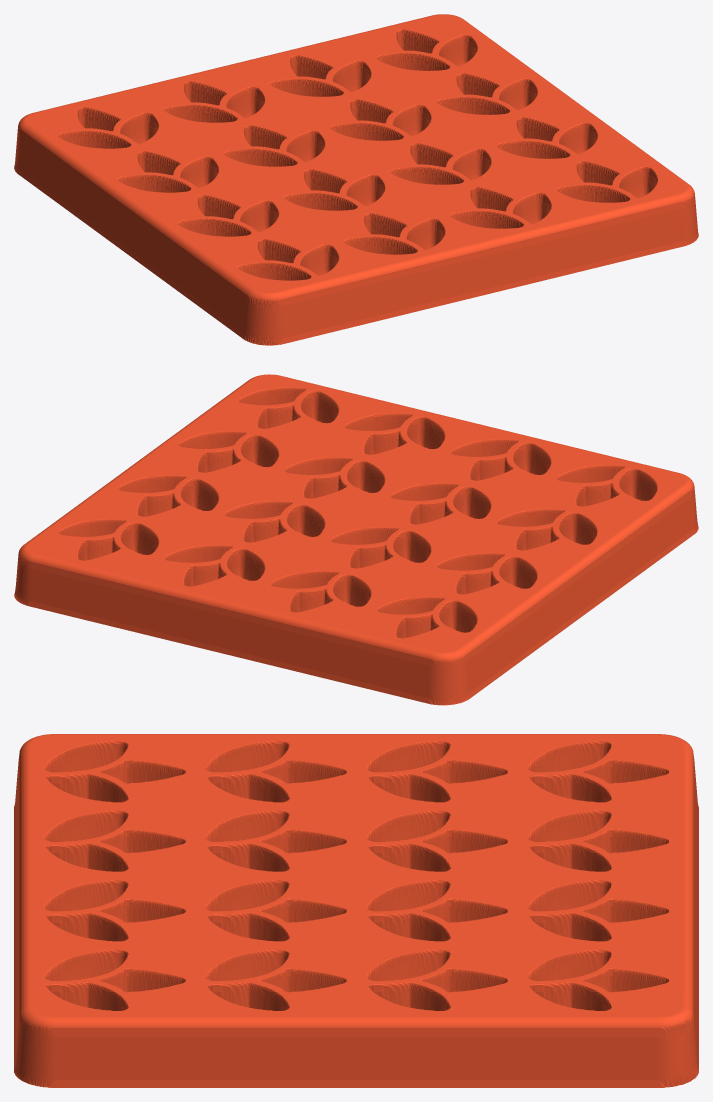
File: mold.glb
3 renders of one model, top to bottom at view 1: azimuth 30°, elevation 25°; view 2: azimuth 150°, elevation 25°; view 3: azimuth 270°, elevation 25°, orthographic. The views are drawn at different scales.
Visible parts, largest first — view 1: geometry_0; view 2: geometry_0; view 3: geometry_0.
Boxes of the visible parts, x1,y1,x2,y2 form: geometry_0: (14,14,698,345); geometry_0: (14,374,698,705); geometry_0: (14,734,698,1087).
Bounding box in the file's own units: 0.1569 × 0.0159 × 0.1538.
